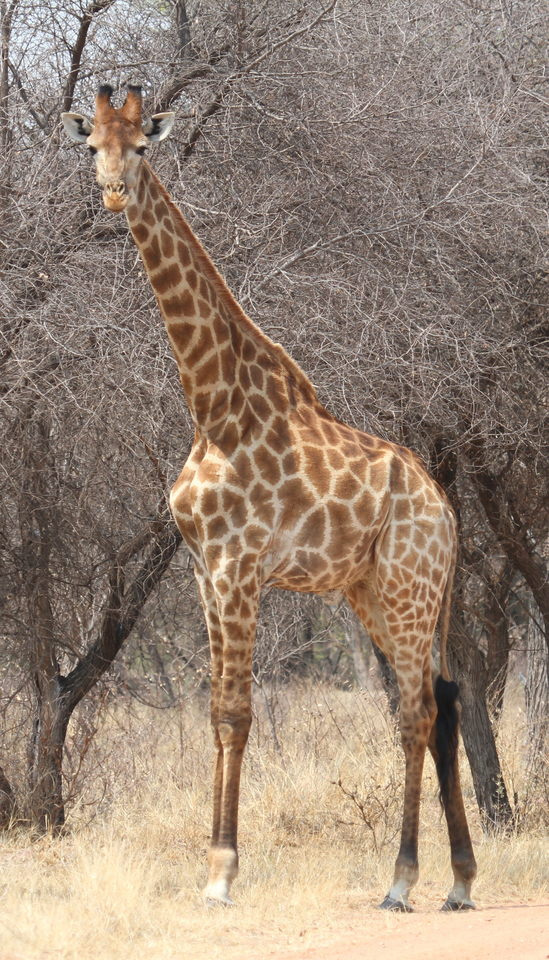giraffe: (76, 67, 493, 924)
